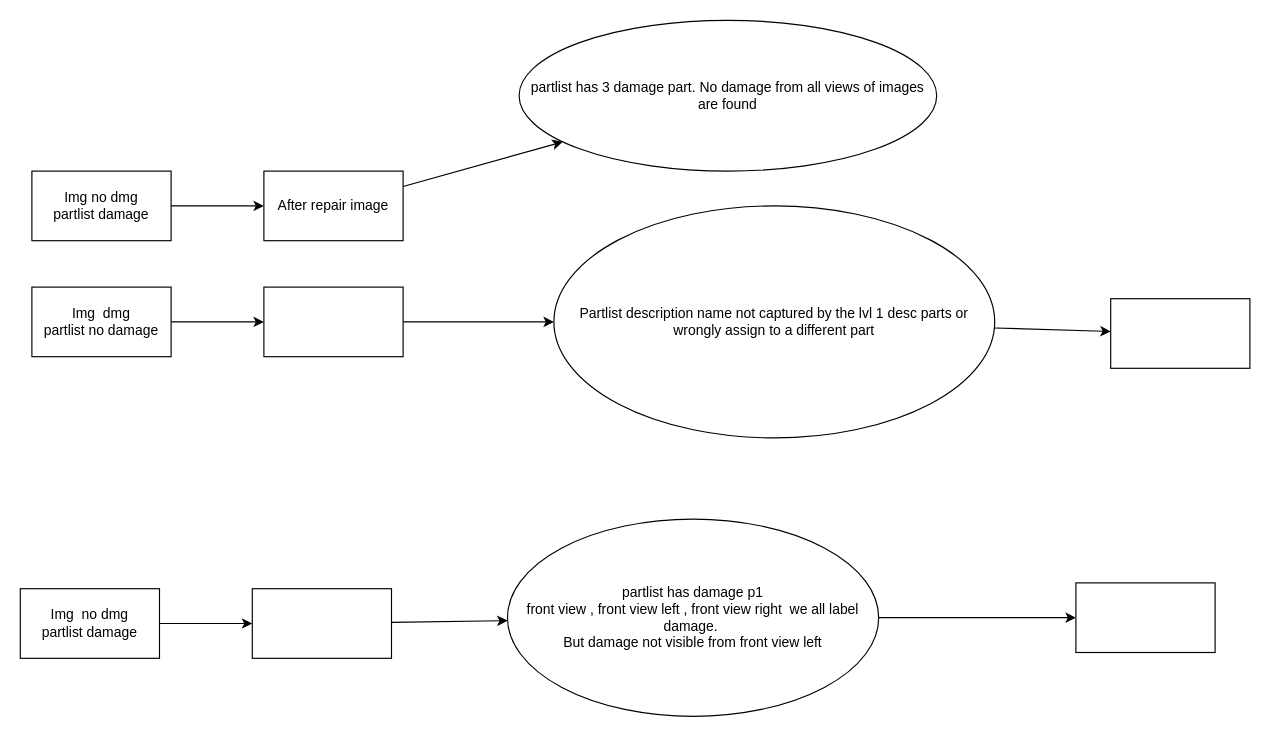
This 1270x737 diagram has some shape labels left out. The shapes that lost their labels are listed below. From the top down, each one's box as (x1, y1, x2, y2) in pixels, then its label:
(263, 286, 403, 357): Fuzzy match problem
(1110, 298, 1250, 368): Rules based remapping of parts
(251, 588, 392, 658): view label inconsistent
